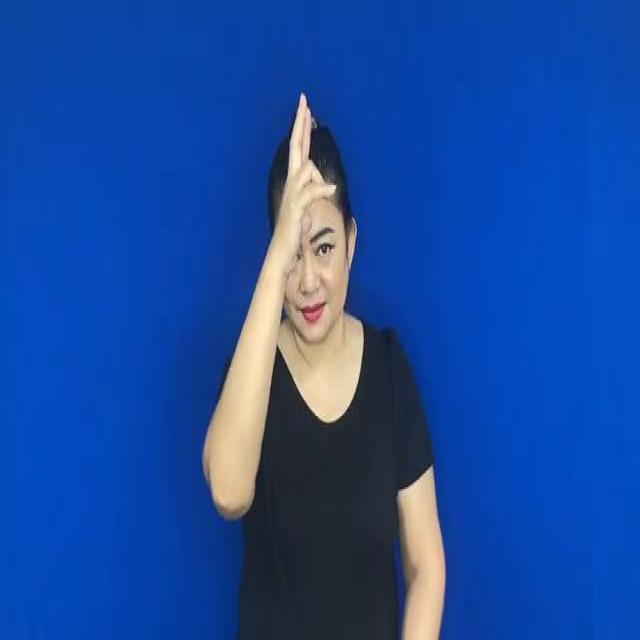chicken: (277, 86, 336, 235)
